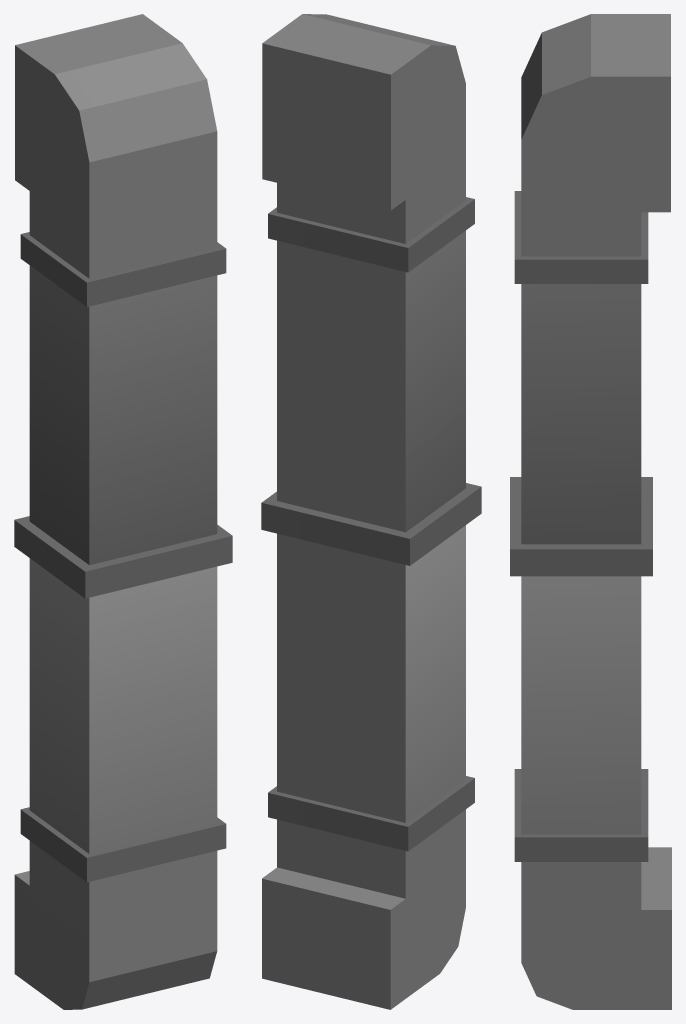
Rendered from B02_conduit.fbx.
The picture shows the model from 3 angles, left to right: view 1: azimuth 30°, elevation 25°; view 2: azimuth 150°, elevation 25°; view 3: azimuth 270°, elevation 25°; orthographic projection.
Visible parts, largest first — view 1: B02_conduit; view 2: B02_conduit; view 3: B02_conduit.
Part boxes in pixels (x1=…): B02_conduit: x1=14, y1=14, x2=232, y2=1009; B02_conduit: x1=261, y1=14, x2=481, y2=1009; B02_conduit: x1=510, y1=14, x2=671, y2=1009.
Bounding box in the file's own units: 94.21 × 567 × 89.06.
